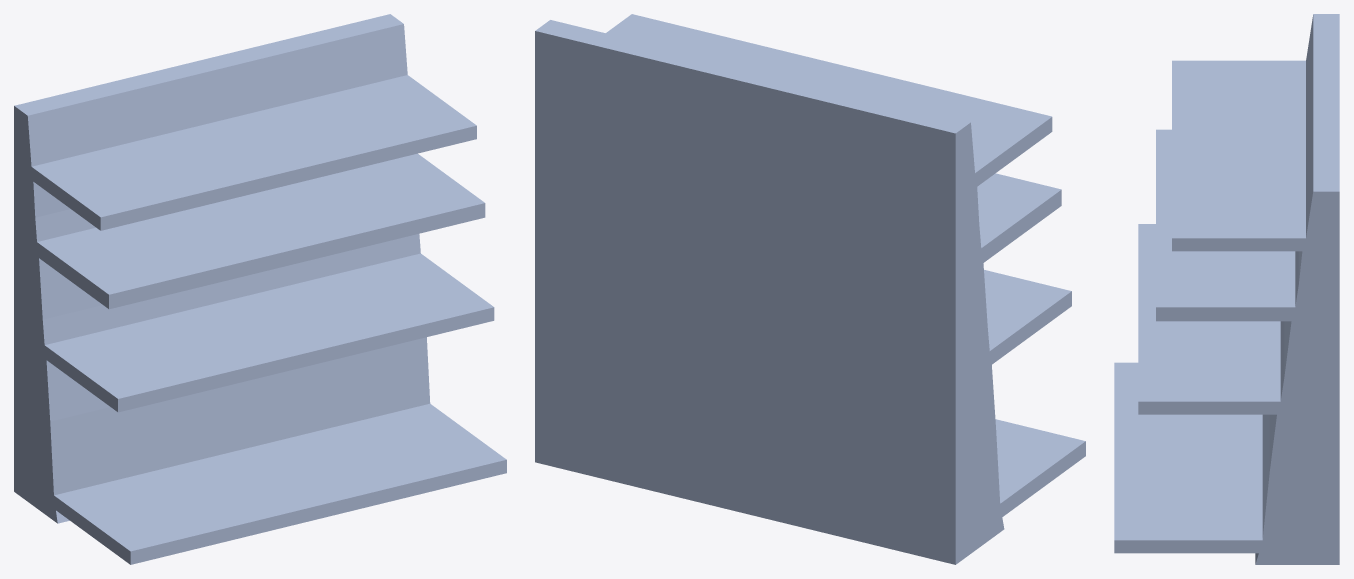
The model's file is metalni_stelaji.fbx.
3 views of the same model, side by side, from view 1: azimuth 30°, elevation 25°; view 2: azimuth 150°, elevation 25°; view 3: azimuth 270°, elevation 25° (orthographic). The views are drawn at different scales.
Parts seen in each view (by area): view 1: Cube; view 2: Cube; view 3: Cube.
Boxes of the visible parts, bbox=[...] form: Cube: bbox=[14, 14, 506, 564]; Cube: bbox=[535, 14, 1085, 564]; Cube: bbox=[1114, 14, 1339, 564].
Size of the model in its own units: 728 by 714 by 390.
